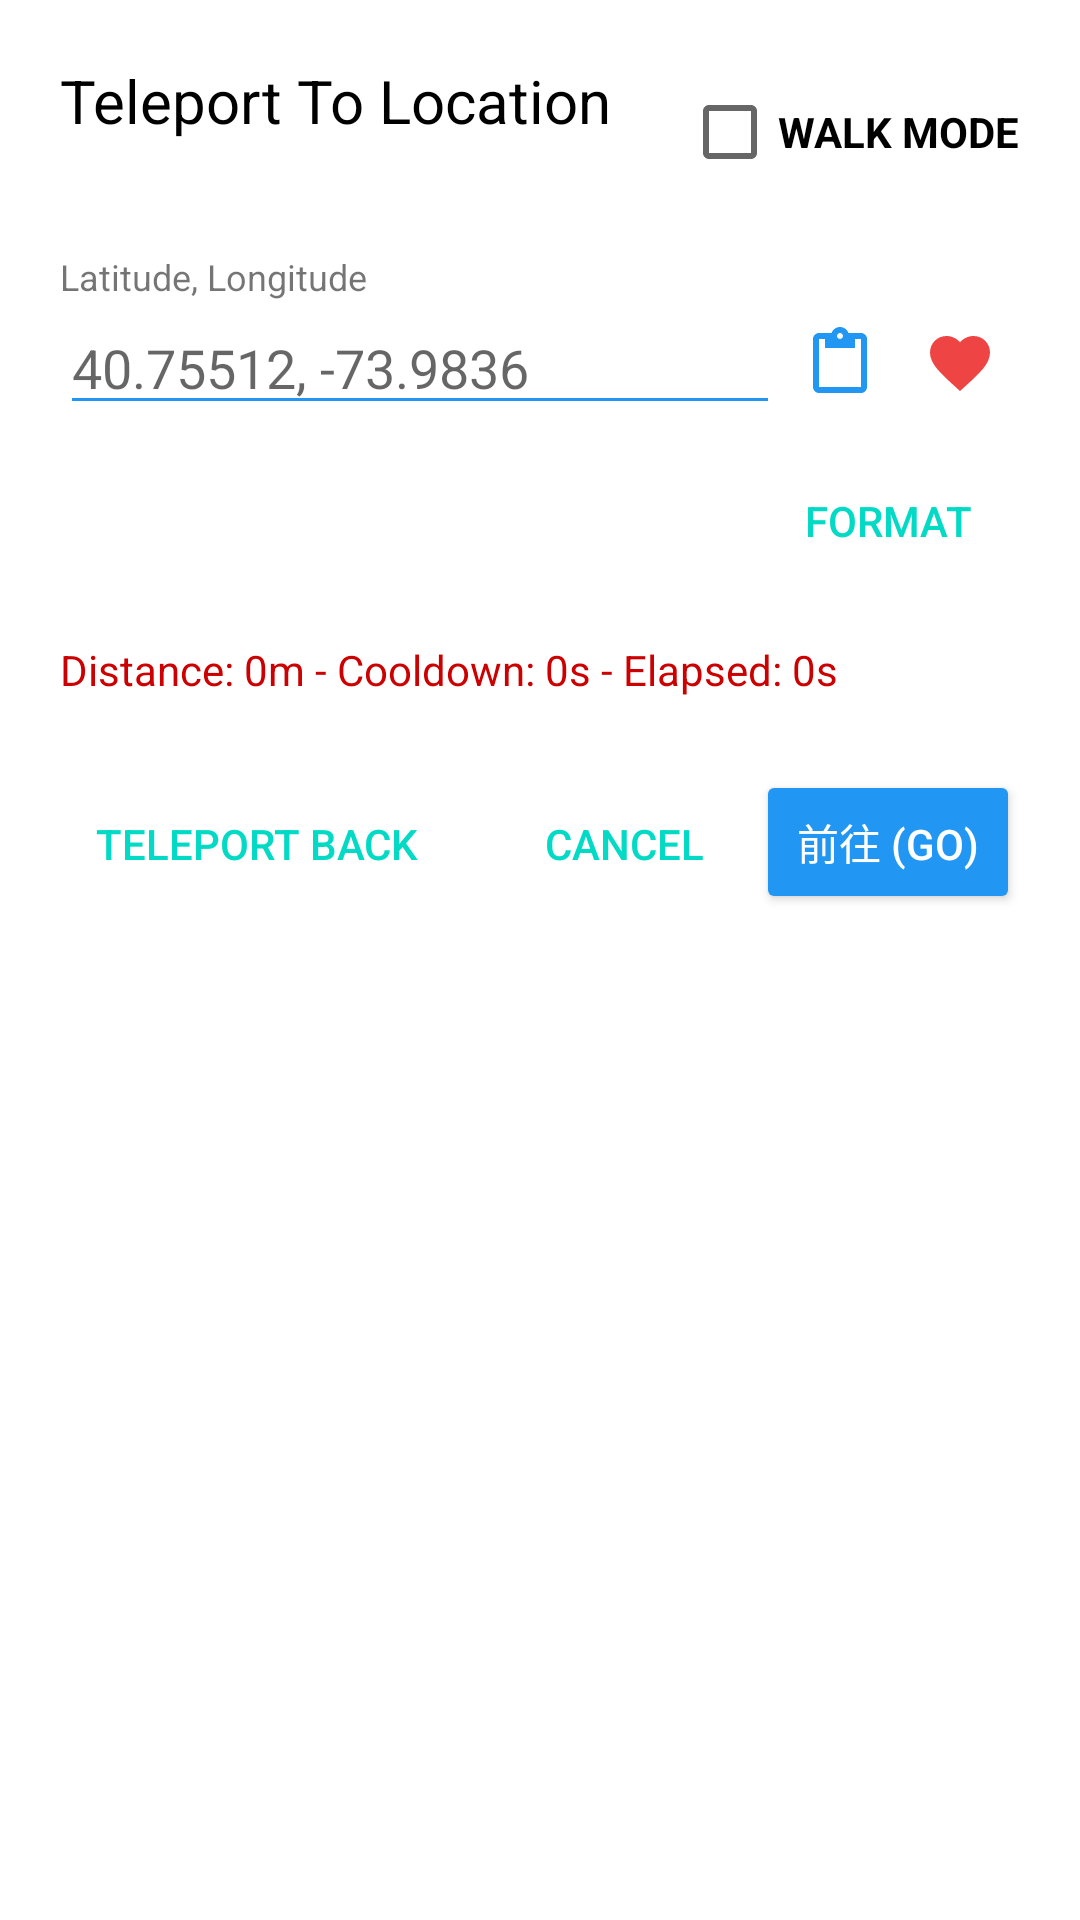

Where to tap for icons on this 1080px×1920px app screen, as (x=x, y=y):
Add to Favorites: (x=960, y=363)
paste: (x=840, y=360)
